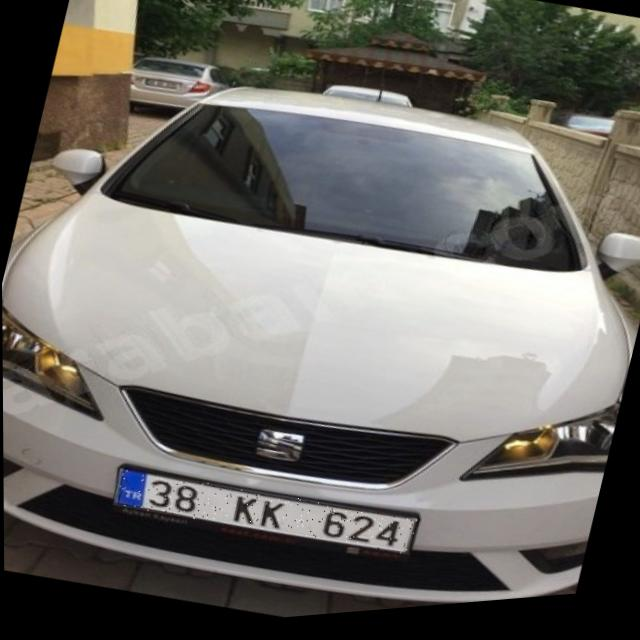license_plate: (111, 451, 416, 581)
